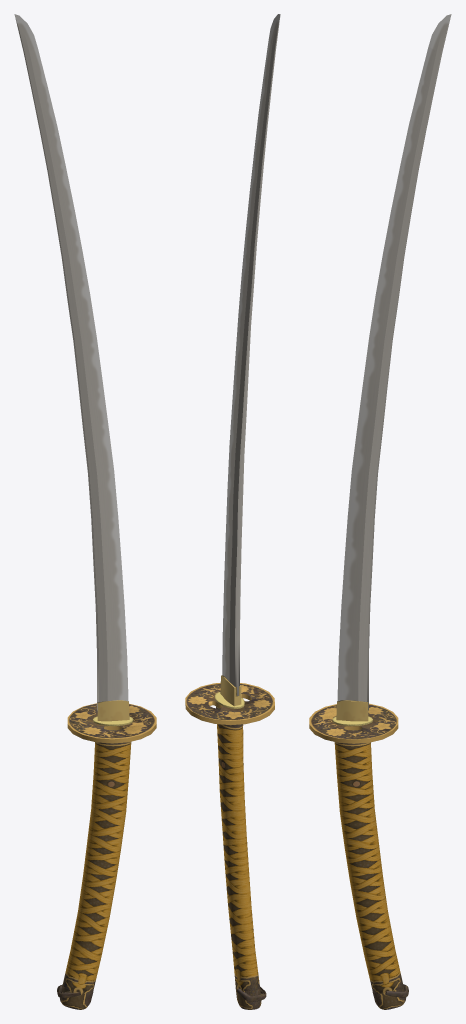
Rendered from Tachi.fbx.
3 views of the same model, side by side, from view 1: azimuth 90°, elevation 25°; view 2: azimuth 210°, elevation 25°; view 3: azimuth 270°, elevation 25° (orthographic). The views are drawn at different scales.
Parts seen in each view (by area): view 1: Tachi; view 2: Tachi; view 3: Tachi.
Boxes of the visible parts, box(x1,y1,x2,y2) form: Tachi: box(14, 14, 156, 1009); Tachi: box(185, 14, 280, 1009); Tachi: box(309, 14, 451, 1009).
Size of the model in its own units: 8.19 by 102 by 13.22.
